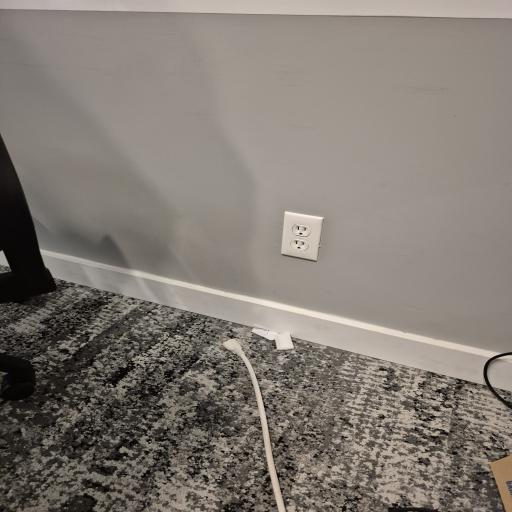outlet: (288, 212, 322, 264)
